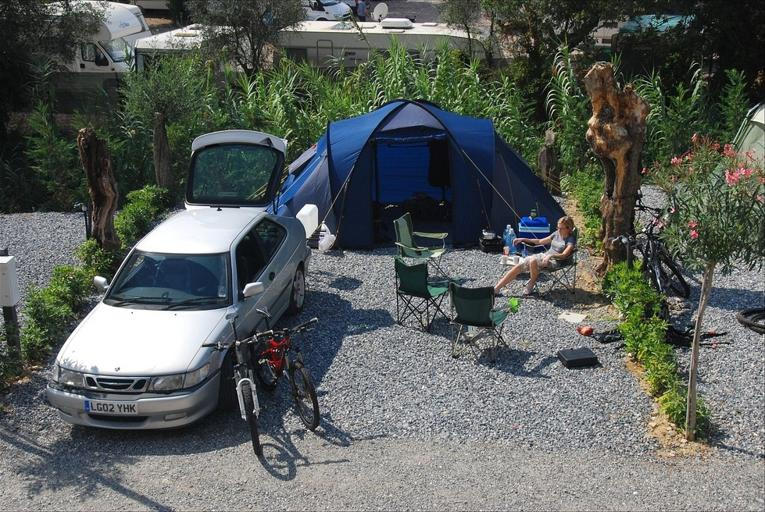non-vehicle: (201, 305, 272, 458), (249, 304, 320, 432), (632, 203, 690, 318)
